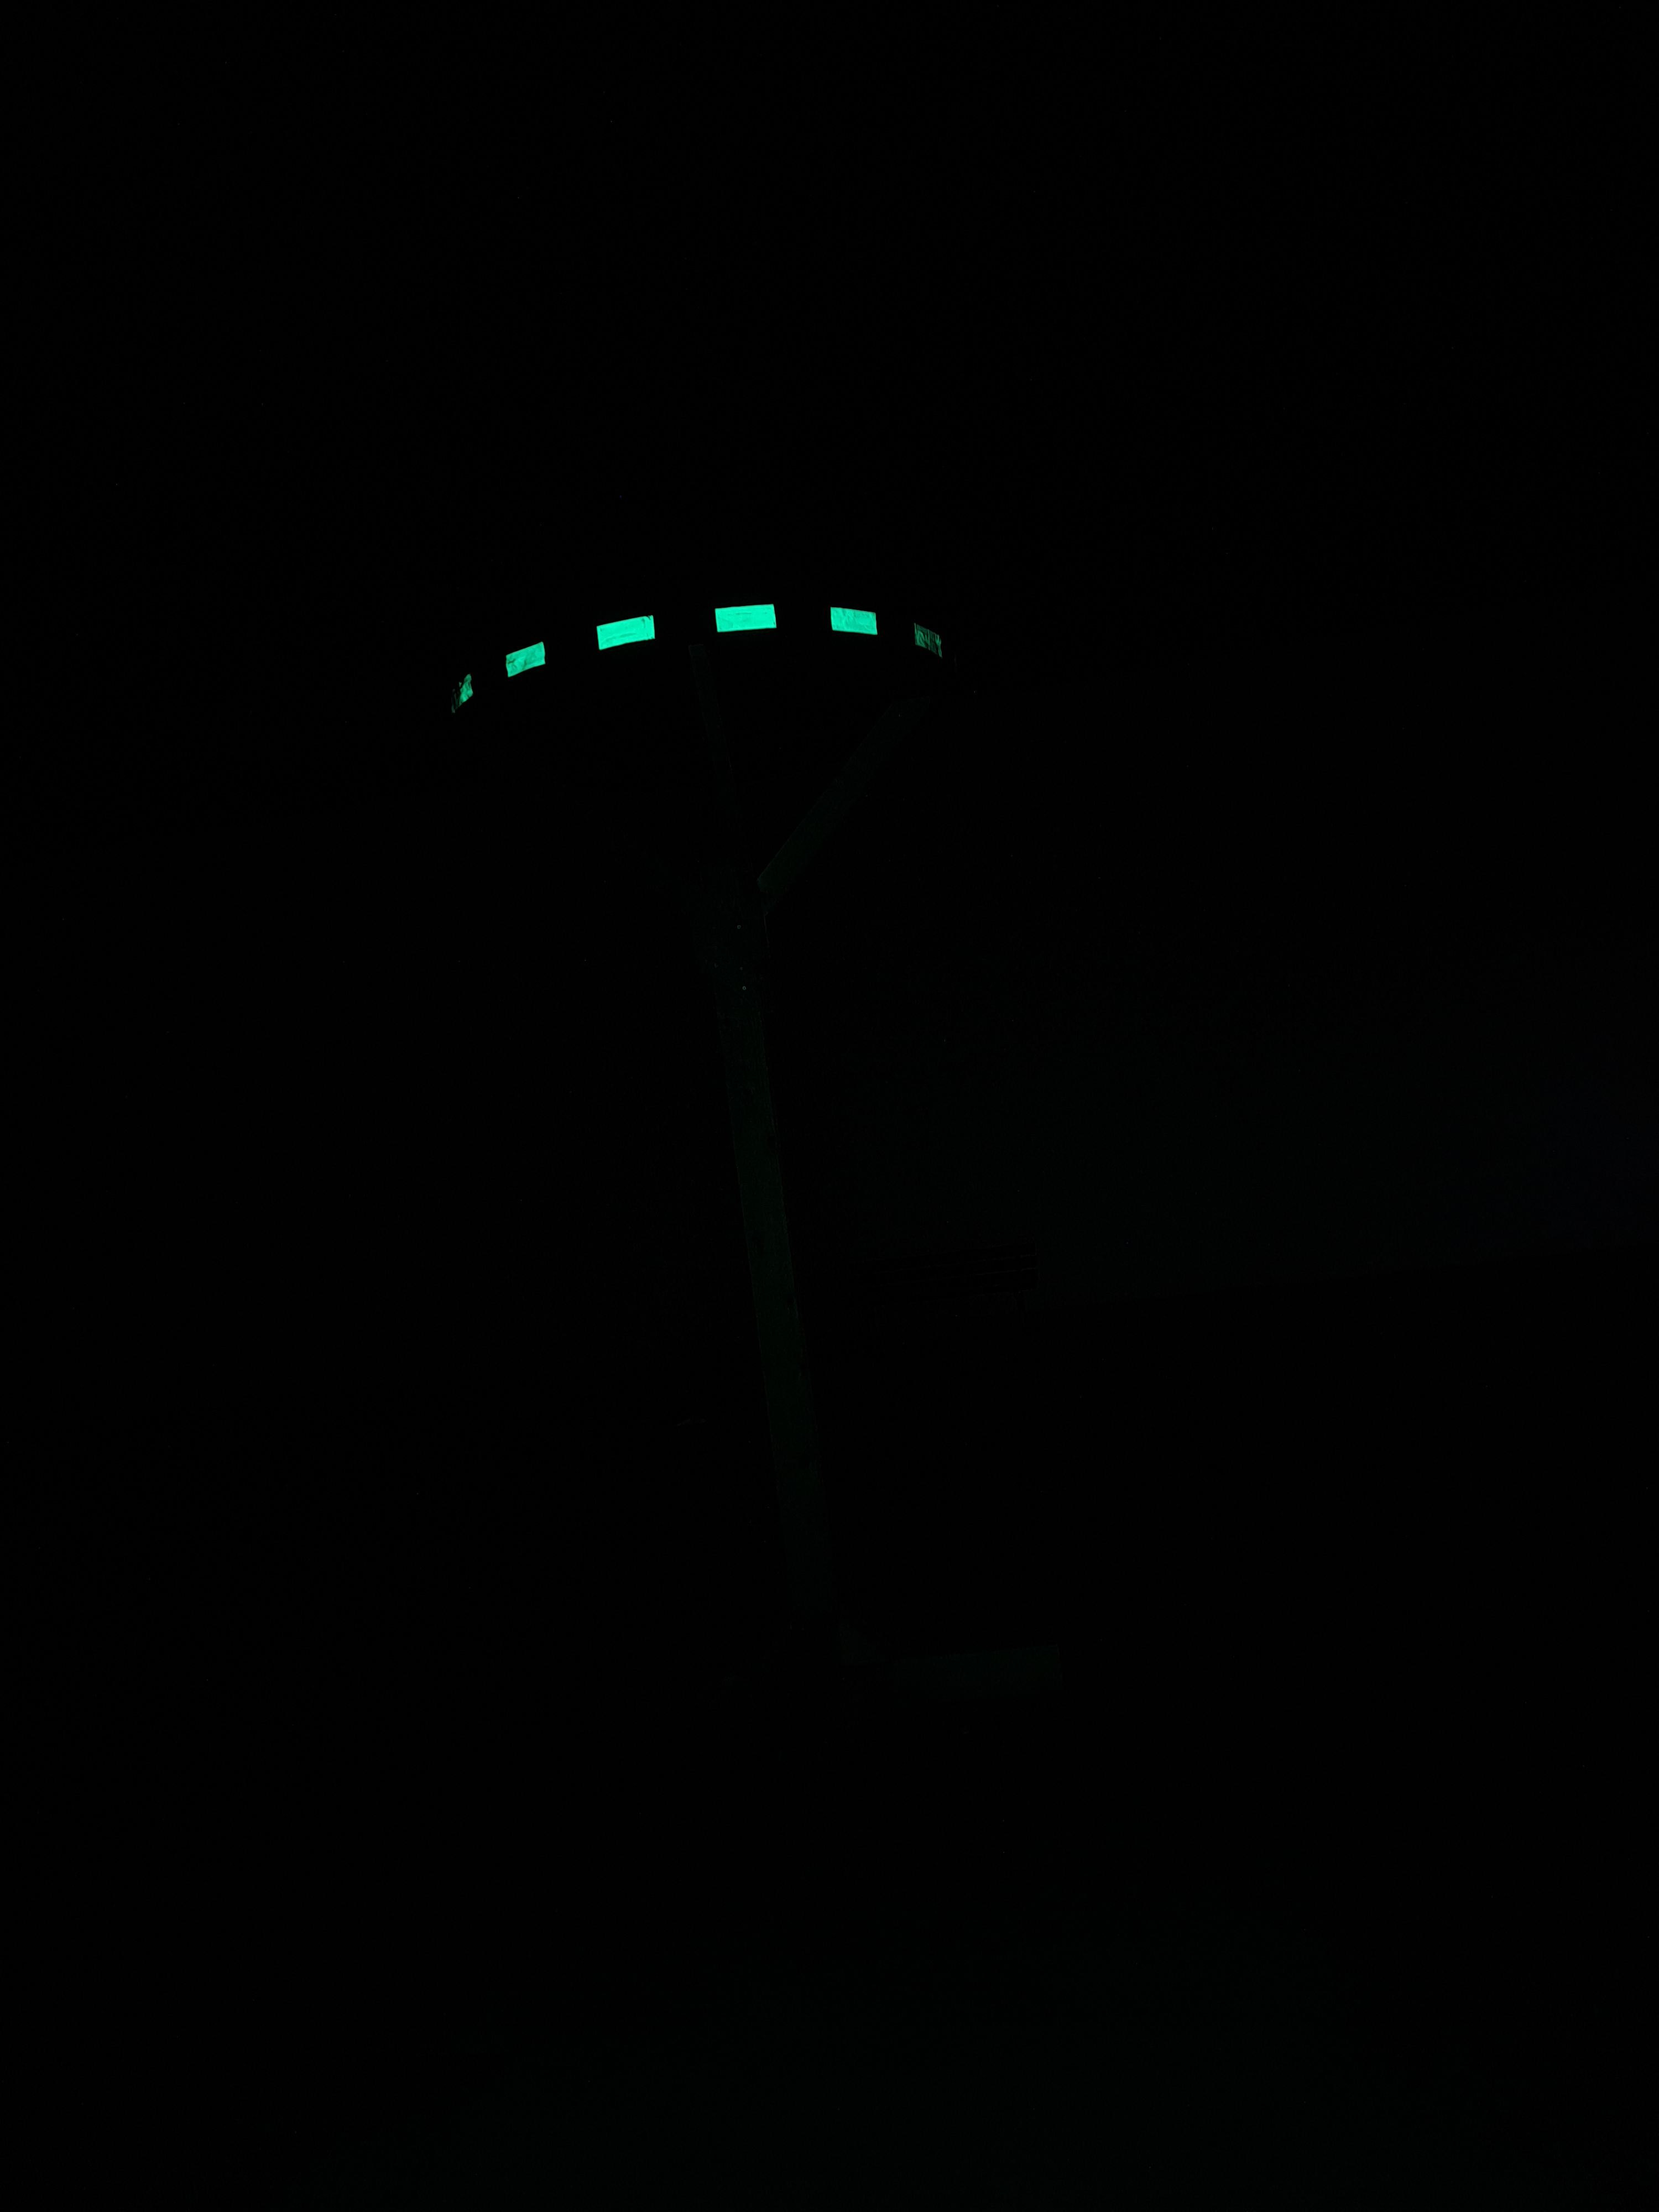hoop: (444, 589, 951, 723)
